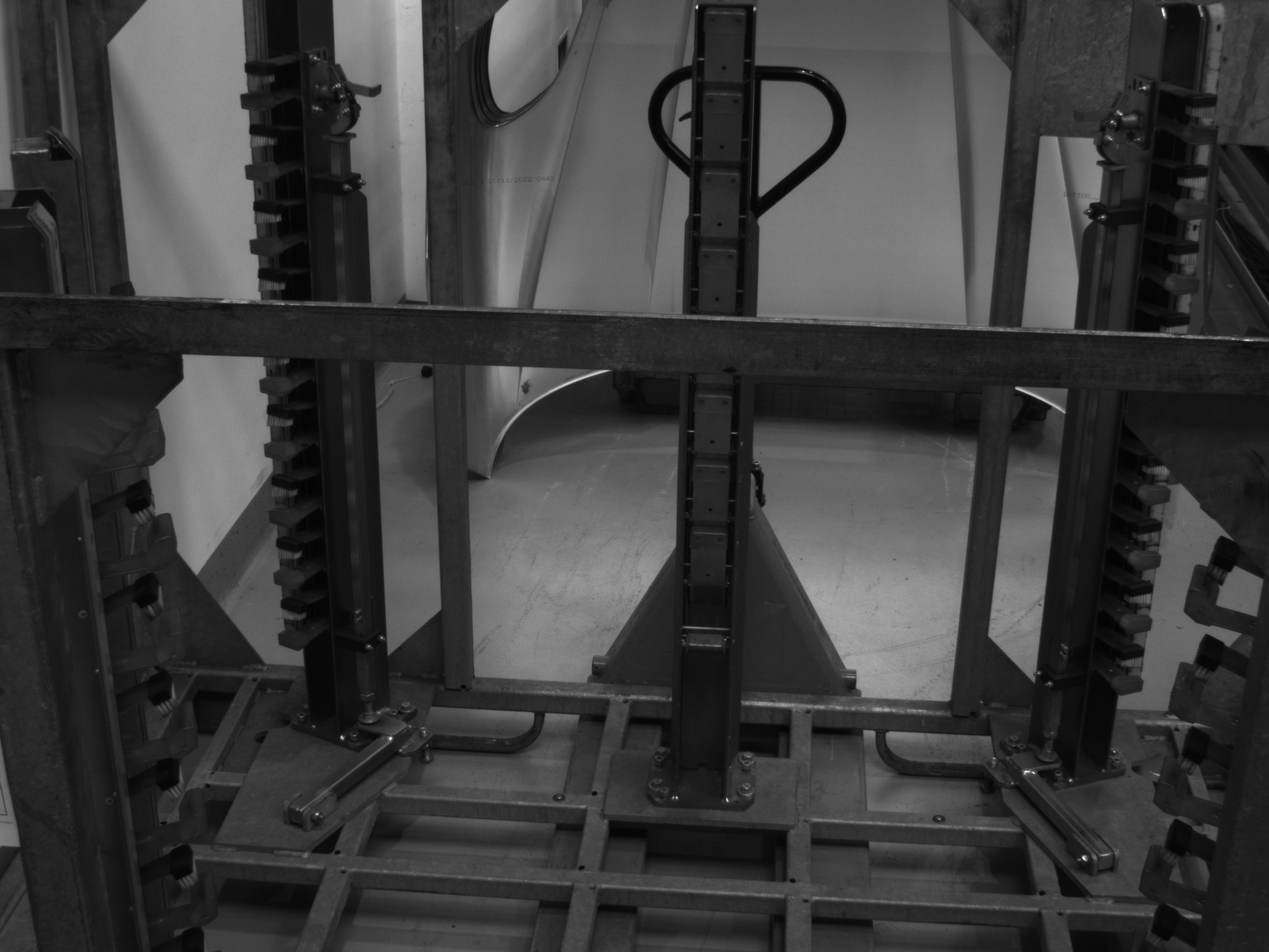wrong_pos: (236, 357, 354, 650), (214, 39, 323, 288), (1118, 70, 1218, 332), (1081, 452, 1177, 708), (104, 489, 201, 737), (128, 758, 227, 949), (1152, 720, 1229, 938), (1205, 525, 1253, 677)
